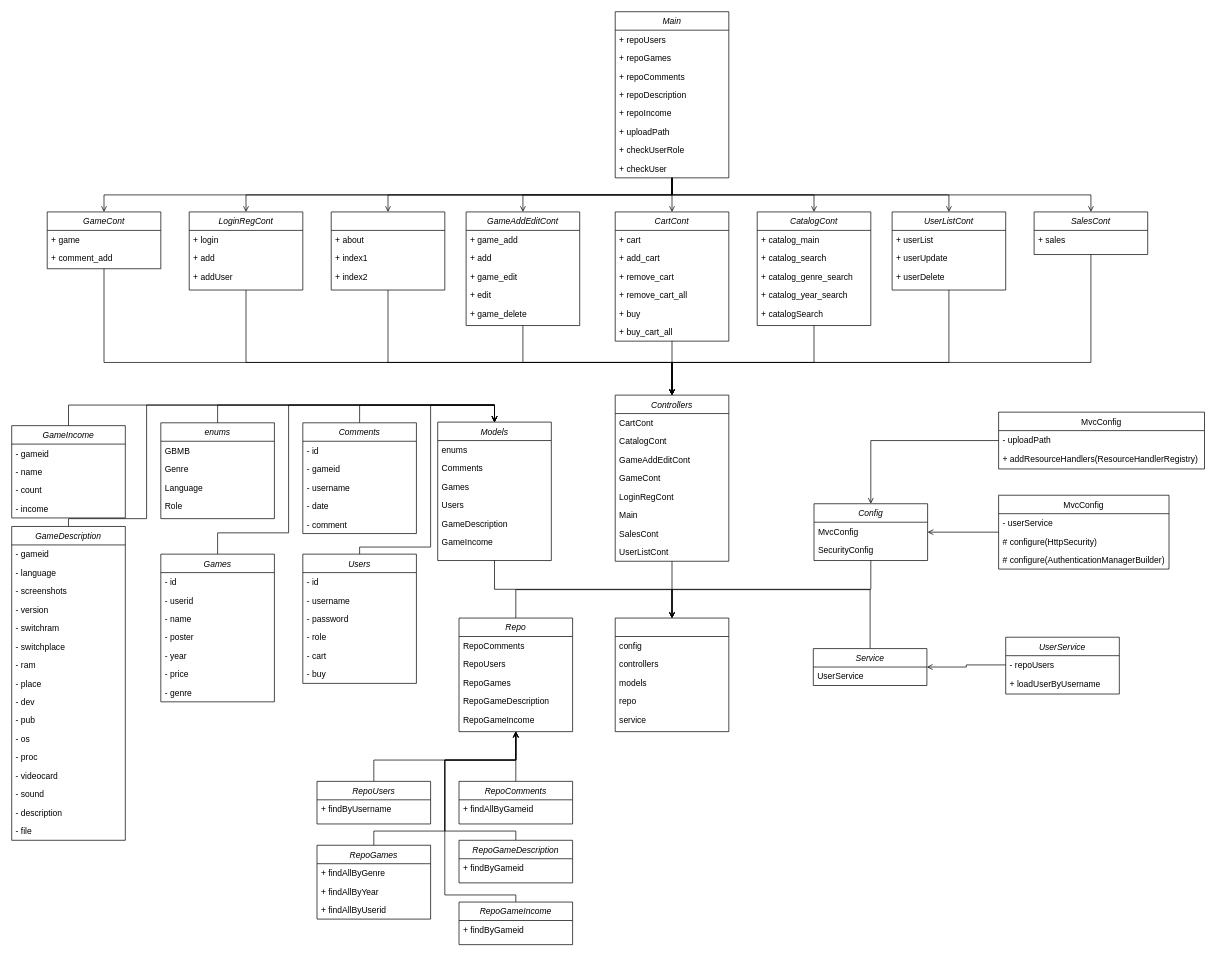
Image size: 1216x956. Some labels were removed from this diagram. The shapes that lost their labels are listed below. From the top down, each one's box as (x1, y1, x2, y2) in pixels, then its label:
(331, 211, 445, 290): MainCont
(615, 617, 729, 732): nova
